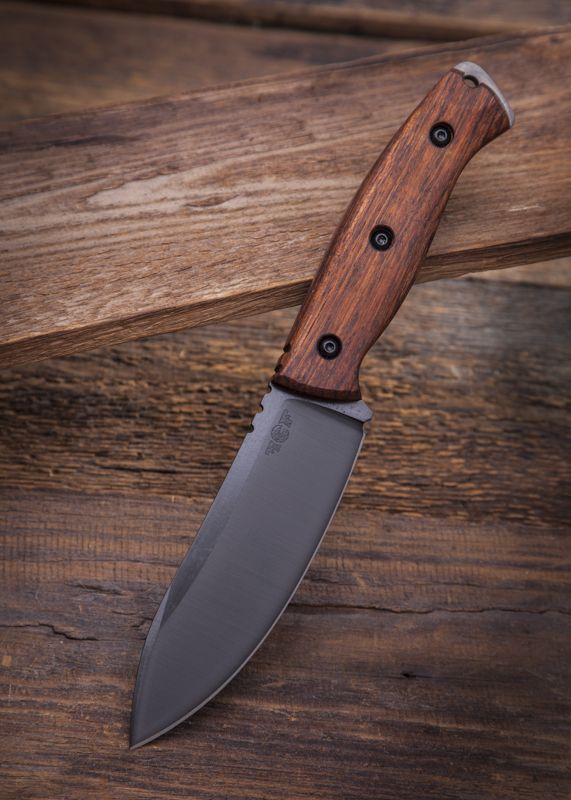knife: (101, 49, 522, 759)
